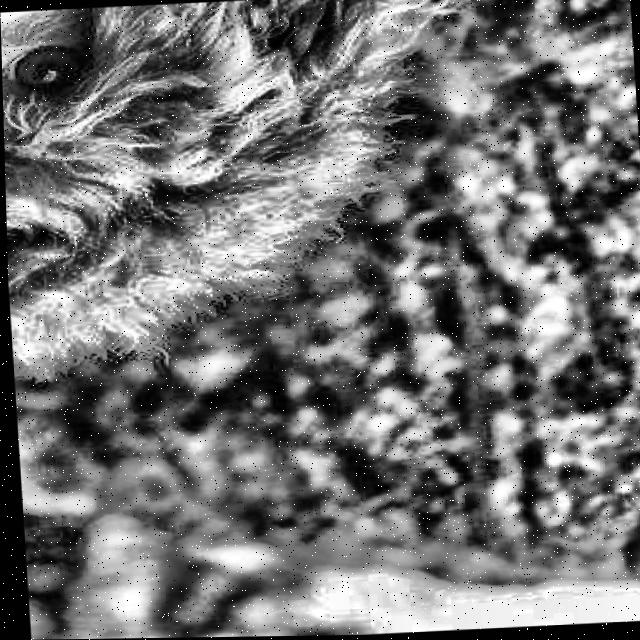dog: (0, 0, 522, 446)
